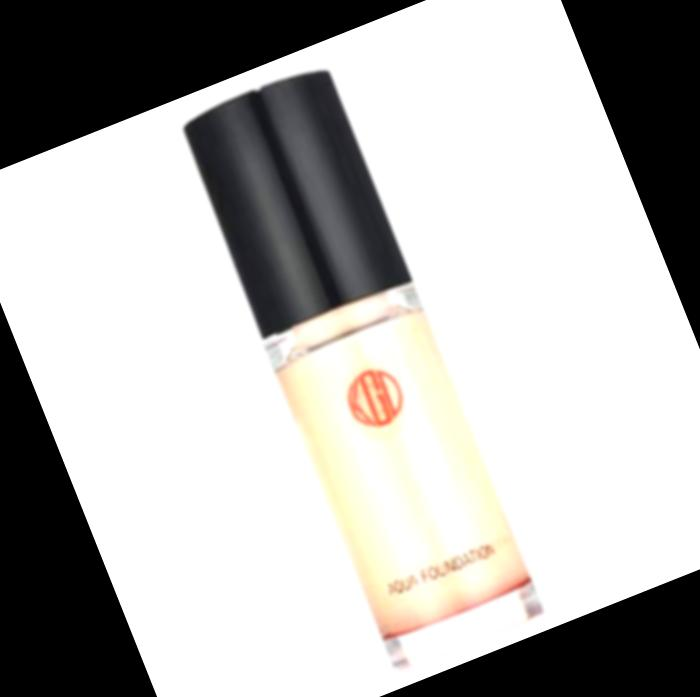cosmetic: (173, 60, 552, 678)
